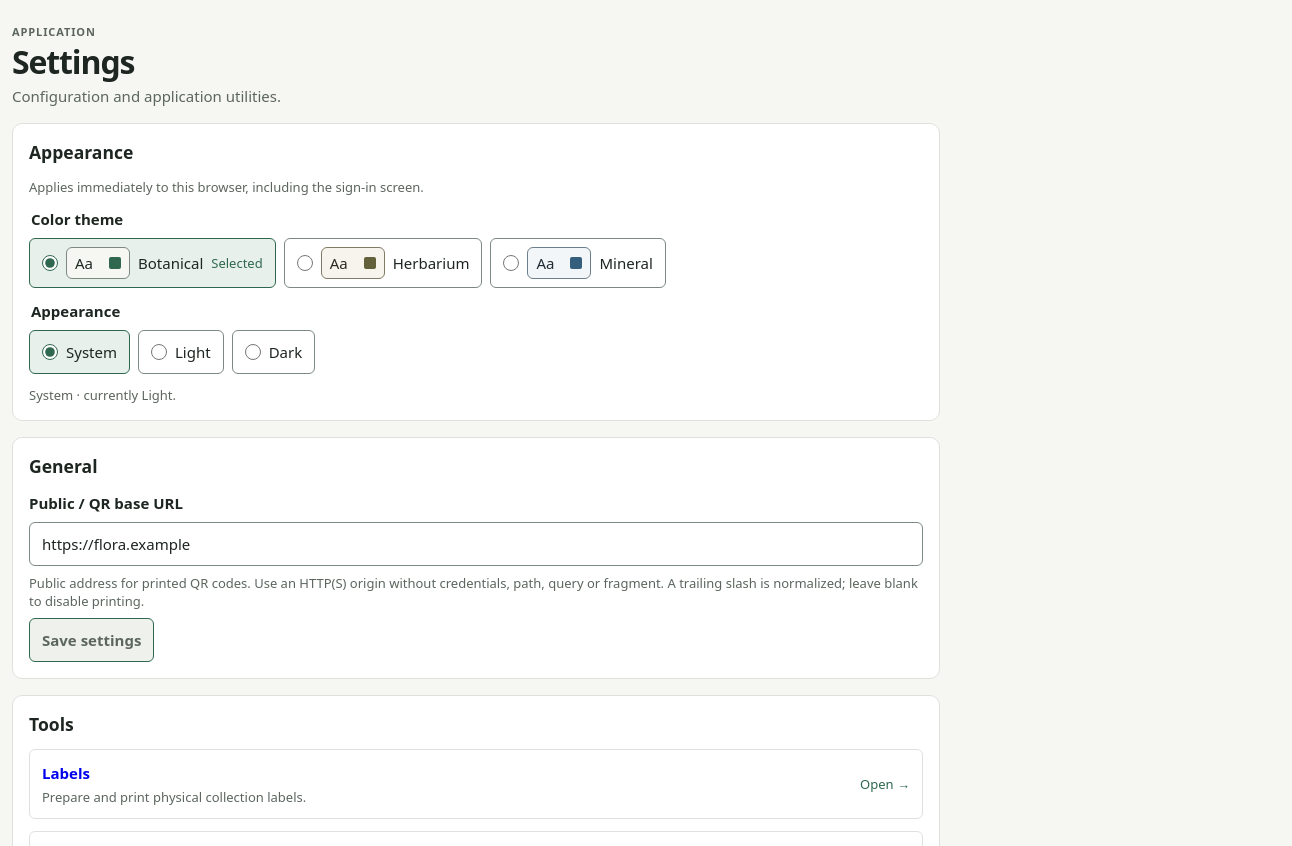
one page contains General and Tools without tabs or a duplicate label preference
Expected: the heading "General" is shown, top-left (29, 454), bottom-right (98, 478)
Expected: the heading "Tools" is shown, top-left (29, 712), bottom-right (74, 736)
Replace the text in the field labelled "Public / QR base URL" with "https://new.example" at (476, 544), box top-left (29, 522), bottom-right (923, 566)
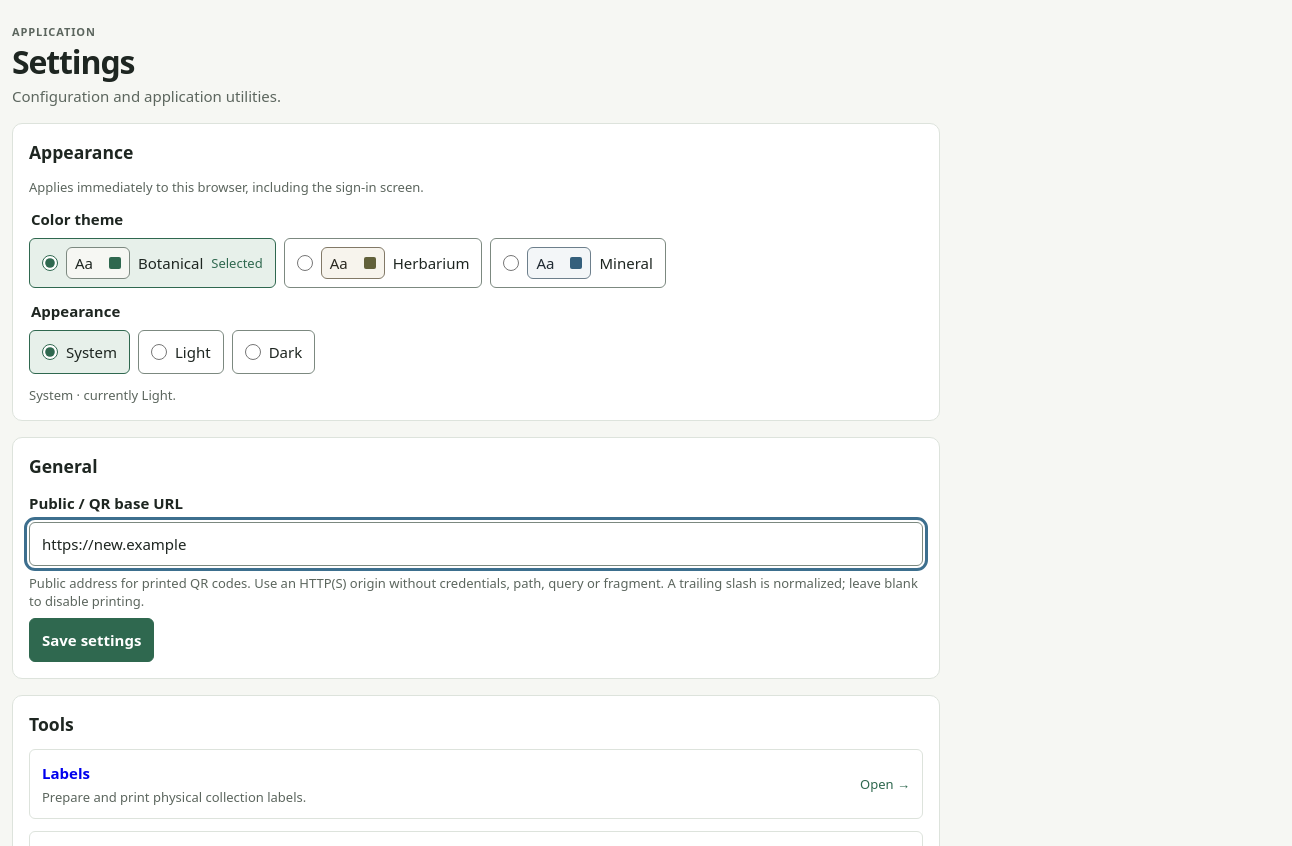
Click the button "Save settings" at (92, 640), box top-left (29, 618), bottom-right (154, 662)
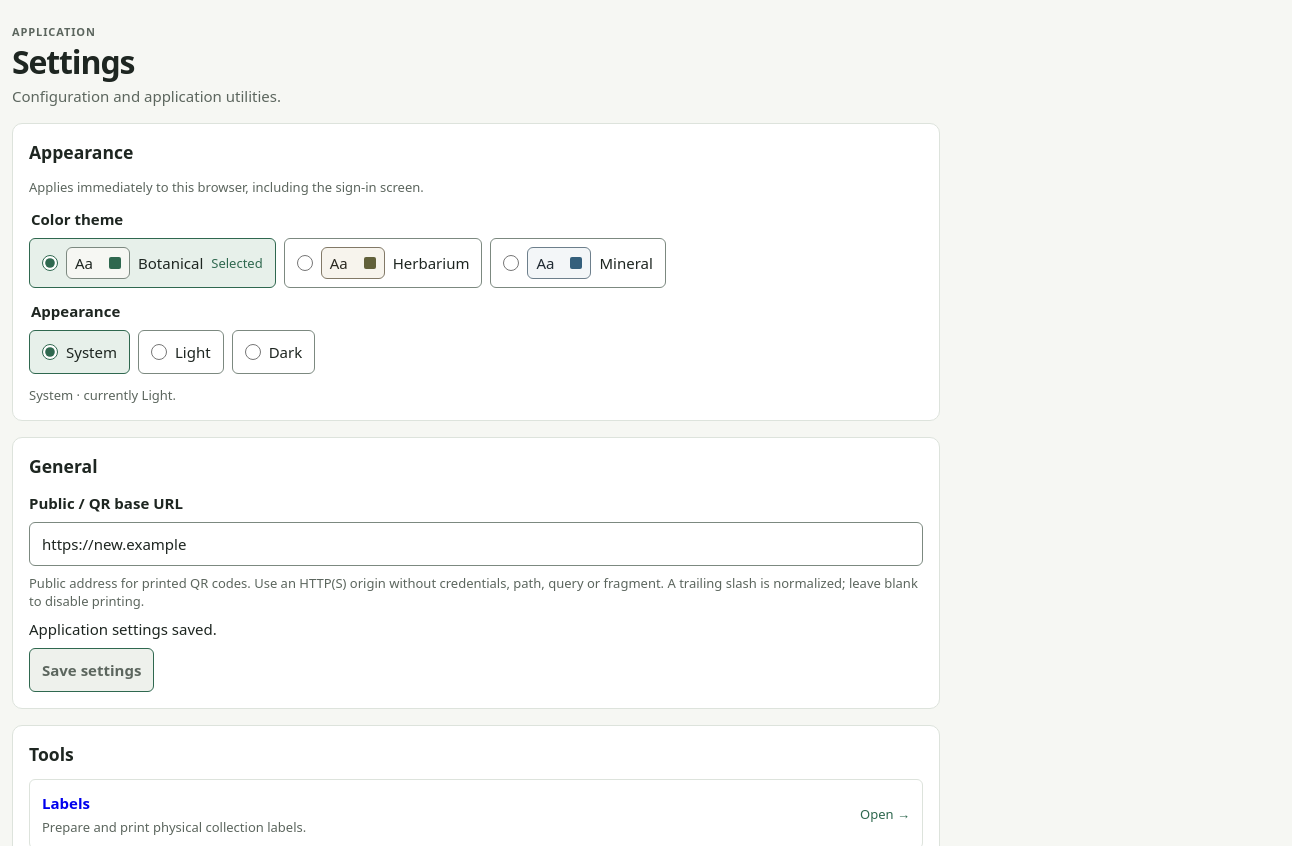
Now the text "Application settings saved." is shown, box top-left (29, 619), bottom-right (217, 639)
